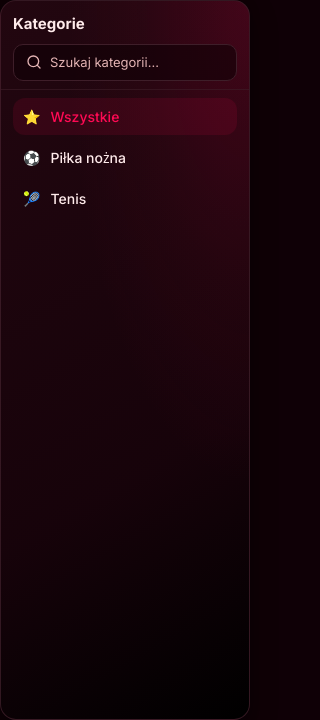
Test case: CategorySidebar › lets users clear a category search with one click
Type "tenis" into the field with placeholder "Szukaj kategorii..." at [137, 62], box [50, 52, 224, 72]
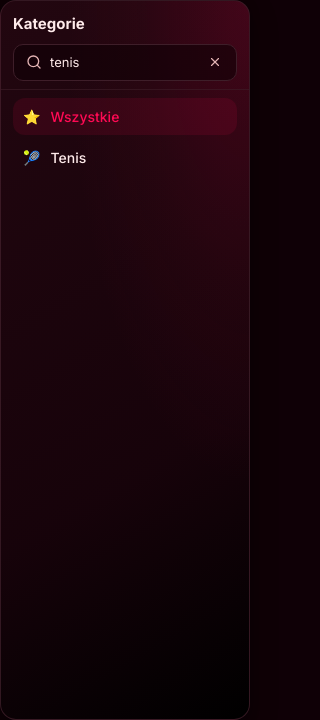
Check: the text "Tenis" is shown, box [50, 147, 86, 168]
Check: the button "Piłka nożna" is gone
Click the button named "Wyczyść wyszukiwanie kategorii" at [215, 62], box [206, 53, 224, 71]
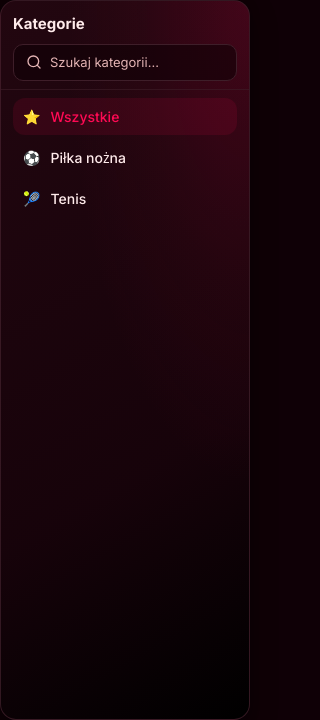
Check: the text "Tenis" is shown, box [50, 188, 86, 209]
Check: the text "Piłka nożna" is shown, box [50, 147, 126, 168]
